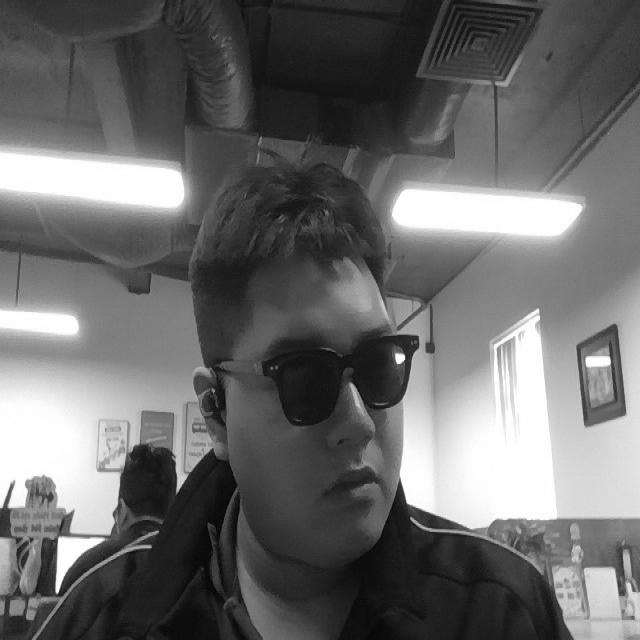fake: (214, 332, 436, 432)
real: (193, 172, 418, 563)
